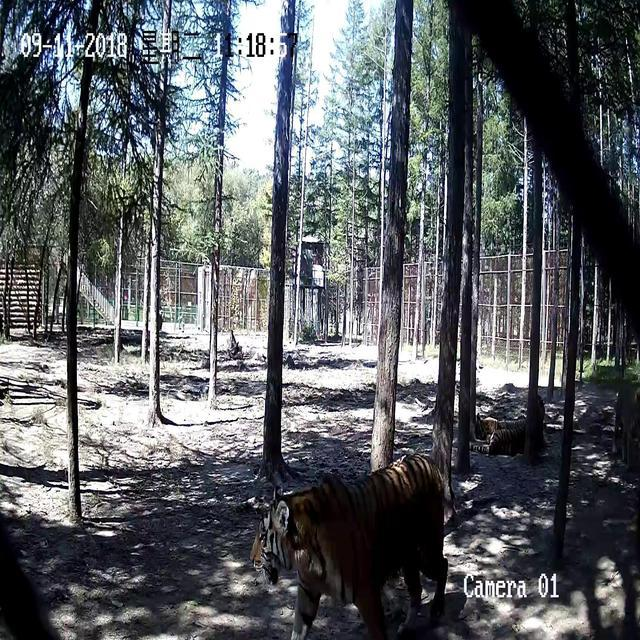tiger: (249, 452, 449, 639), (474, 393, 547, 458)
